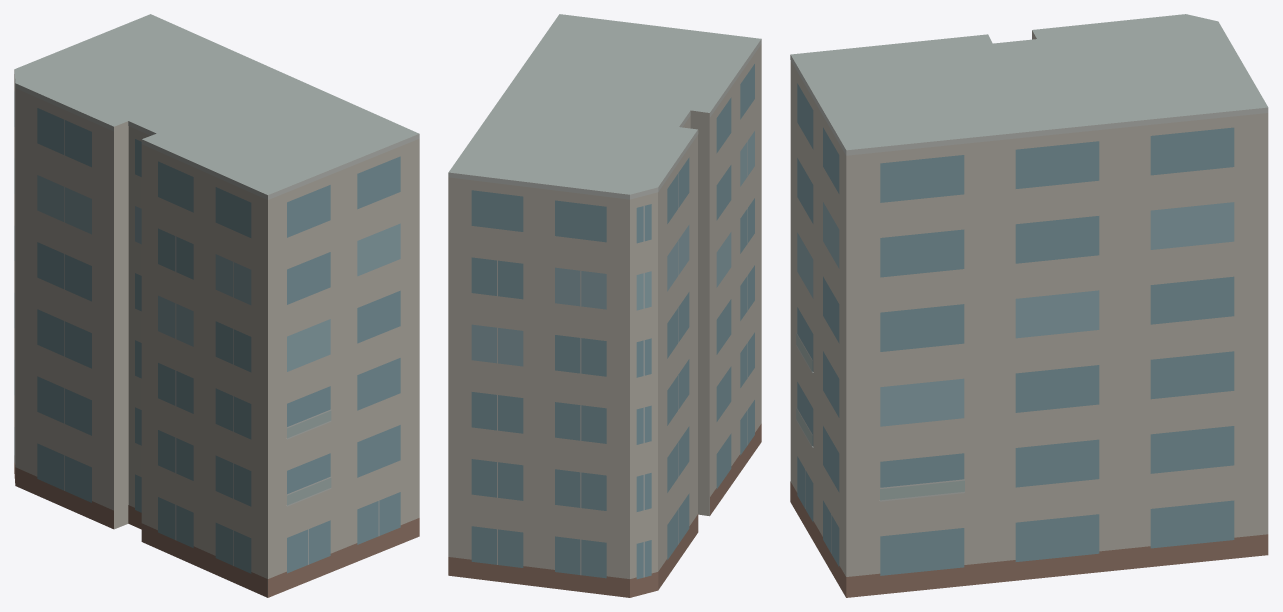
Rendered from survey-upis-32978742.glb.
3 views of the same model, side by side, from view 1: azimuth 30°, elevation 25°; view 2: azimuth 150°, elevation 25°; view 3: azimuth 270°, elevation 25° (orthographic). The views are drawn at different scales.
Visible parts, largest first — view 1: survey-upis-32978742.tmp; view 2: survey-upis-32978742.tmp; view 3: survey-upis-32978742.tmp.
Boxes of the visible parts, x1=… form: survey-upis-32978742.tmp: x1=14, y1=14, x2=419, y2=597; survey-upis-32978742.tmp: x1=448, y1=14, x2=761, y2=597; survey-upis-32978742.tmp: x1=790, y1=14, x2=1268, y2=597.
Size of the model in its own units: 13.17 by 20.14 by 19.5.
